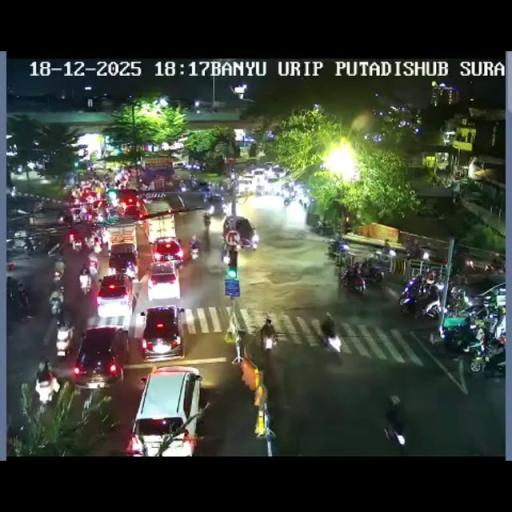Car: (127, 364, 201, 454), (72, 326, 126, 388), (139, 304, 186, 361), (95, 272, 135, 317), (142, 206, 178, 250), (146, 259, 182, 300), (222, 214, 258, 252), (107, 242, 139, 277), (106, 187, 142, 218), (469, 280, 504, 310), (204, 193, 226, 214), (250, 169, 268, 189), (236, 174, 254, 194), (194, 181, 211, 196), (266, 170, 279, 182)
Motorcycle: (398, 275, 442, 316), (439, 314, 481, 355), (478, 339, 506, 378), (34, 368, 59, 405), (7, 298, 34, 326), (318, 326, 342, 355), (341, 266, 365, 294), (367, 248, 395, 272), (489, 306, 506, 340), (56, 320, 74, 350), (448, 270, 470, 294), (383, 424, 406, 446), (454, 290, 472, 312), (49, 288, 64, 314), (26, 236, 46, 255), (6, 276, 20, 303), (260, 330, 275, 354), (79, 273, 93, 296), (314, 218, 331, 236), (97, 226, 111, 247), (327, 238, 343, 256), (488, 256, 504, 274), (52, 266, 64, 286), (405, 246, 422, 260), (359, 258, 372, 276), (226, 179, 238, 198), (221, 242, 231, 264), (189, 242, 201, 260), (423, 267, 435, 285), (281, 182, 294, 198), (70, 234, 82, 251), (84, 233, 95, 251), (88, 258, 98, 276), (62, 212, 74, 226), (6, 236, 16, 252), (94, 210, 106, 223), (82, 210, 94, 222), (466, 258, 476, 271), (202, 212, 210, 226), (188, 176, 197, 188), (118, 202, 126, 215), (283, 195, 291, 206), (387, 248, 396, 257), (178, 180, 186, 190), (422, 250, 430, 260), (298, 197, 304, 207)
